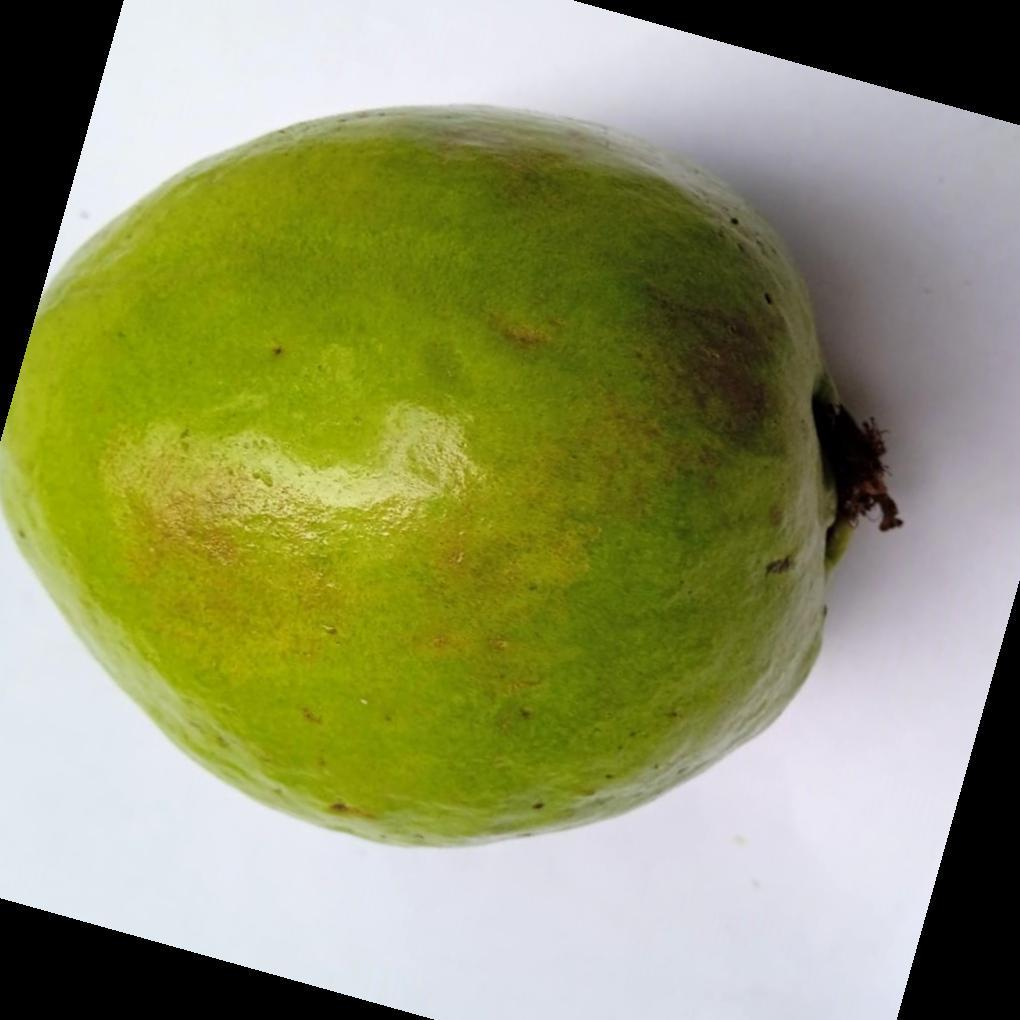FreshGuava: (0, 105, 894, 852)
